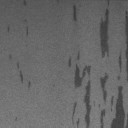red iron: (68, 10, 128, 128), (100, 0, 112, 58), (16, 62, 30, 88), (72, 4, 77, 22), (26, 26, 29, 36), (7, 26, 10, 34), (23, 0, 26, 6)
